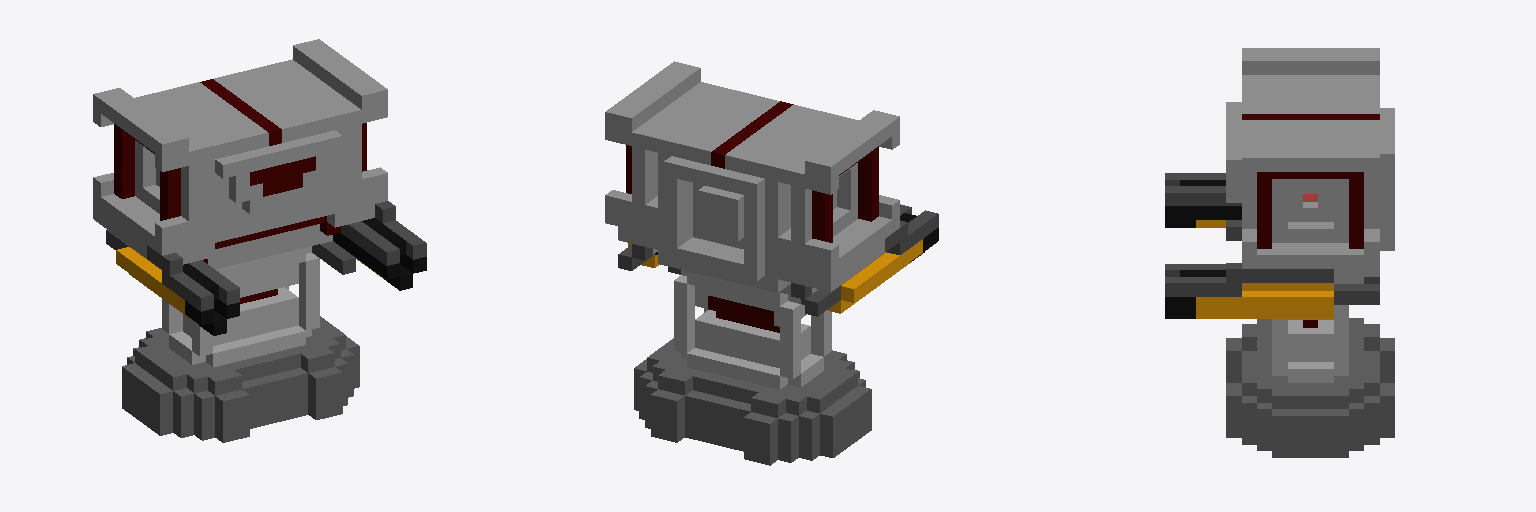
The picture shows the model from 3 angles: view 1: azimuth 30°, elevation 25°; view 2: azimuth 150°, elevation 25°; view 3: azimuth 270°, elevation 25°; orthographic projection.
Visible parts, largest first — view 1: p1Mech; view 2: p1Mech; view 3: p1Mech.
Part boxes in pixels (bbox=[...]): p1Mech: bbox=[93, 39, 426, 442]; p1Mech: bbox=[605, 61, 938, 465]; p1Mech: bbox=[1165, 48, 1394, 457].
Bounding box in the file's own units: 17 × 22 × 15.
Materials: 1 (1 with a texture image).